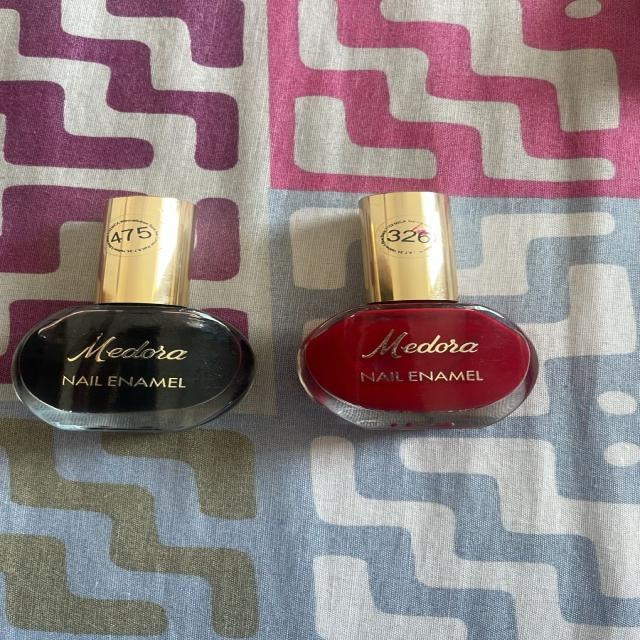nail polish: (254, 169, 570, 447), (0, 180, 292, 452)
